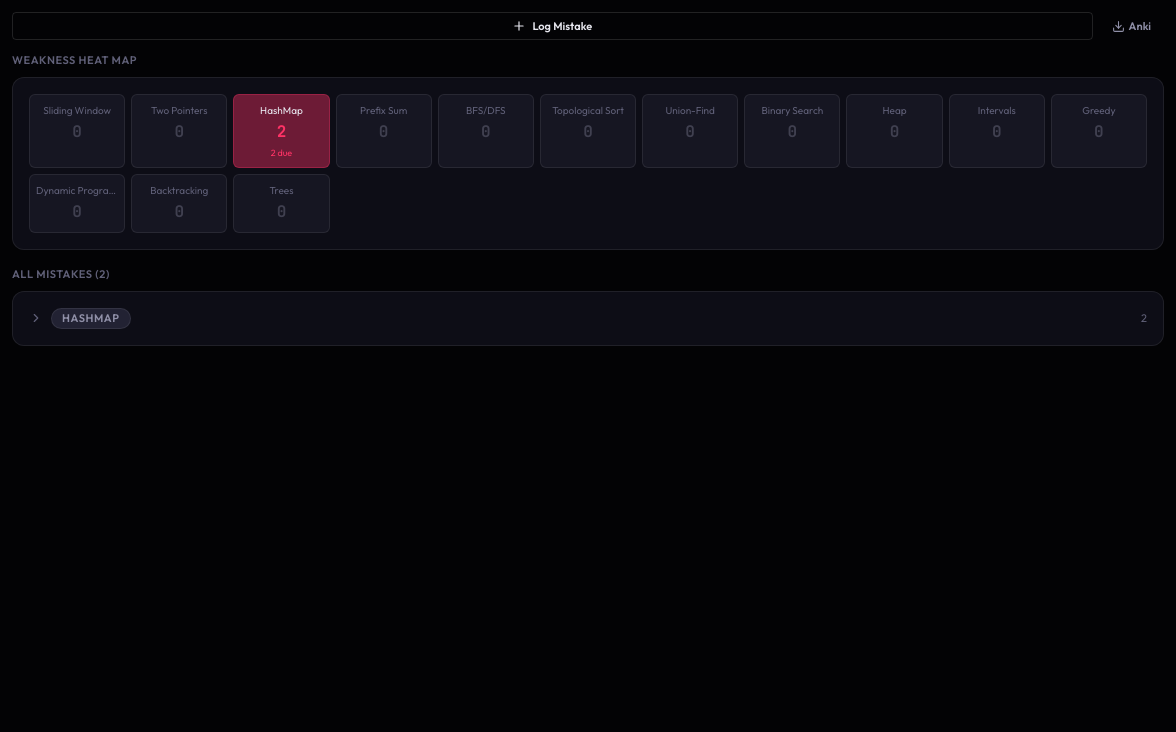
Test: MistakesPanel › mistake list › renders multiple mistakes
Click the button "HashMap 2" at point(91, 318), box [29,308,1147,328]
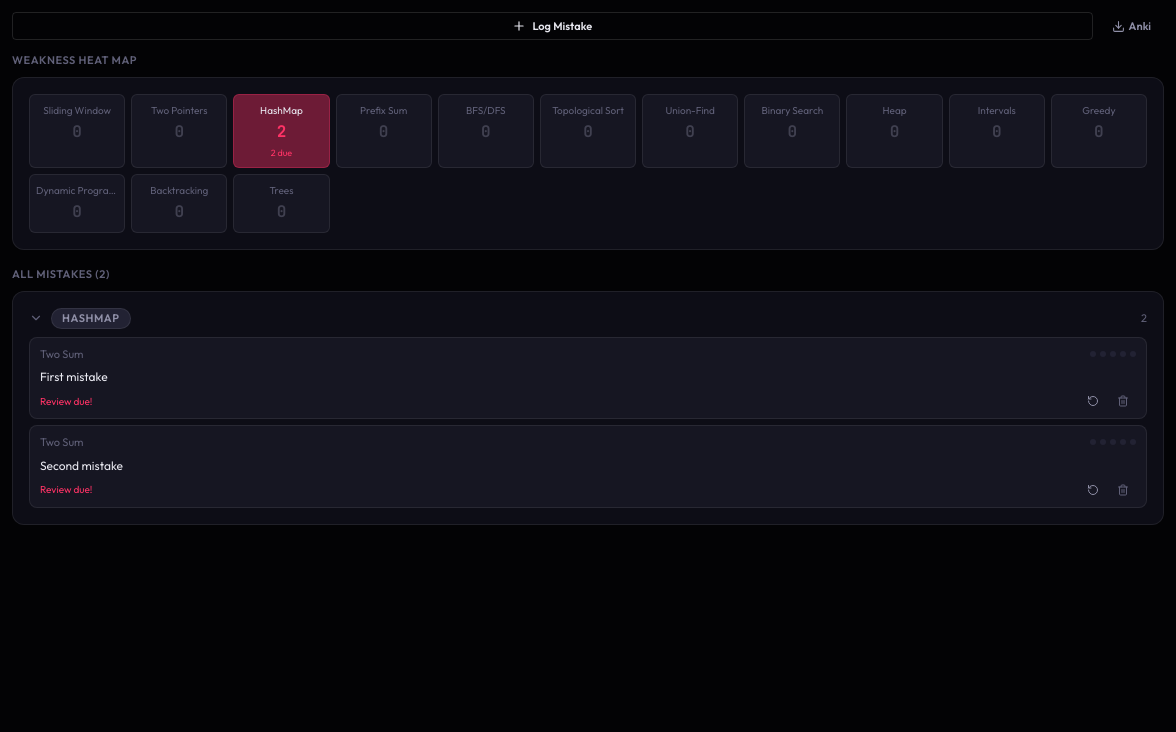
Result: the text "First mistake" is shown at [40,369,108,384]
Result: the text "Second mistake" is shown at [40,458,123,472]
